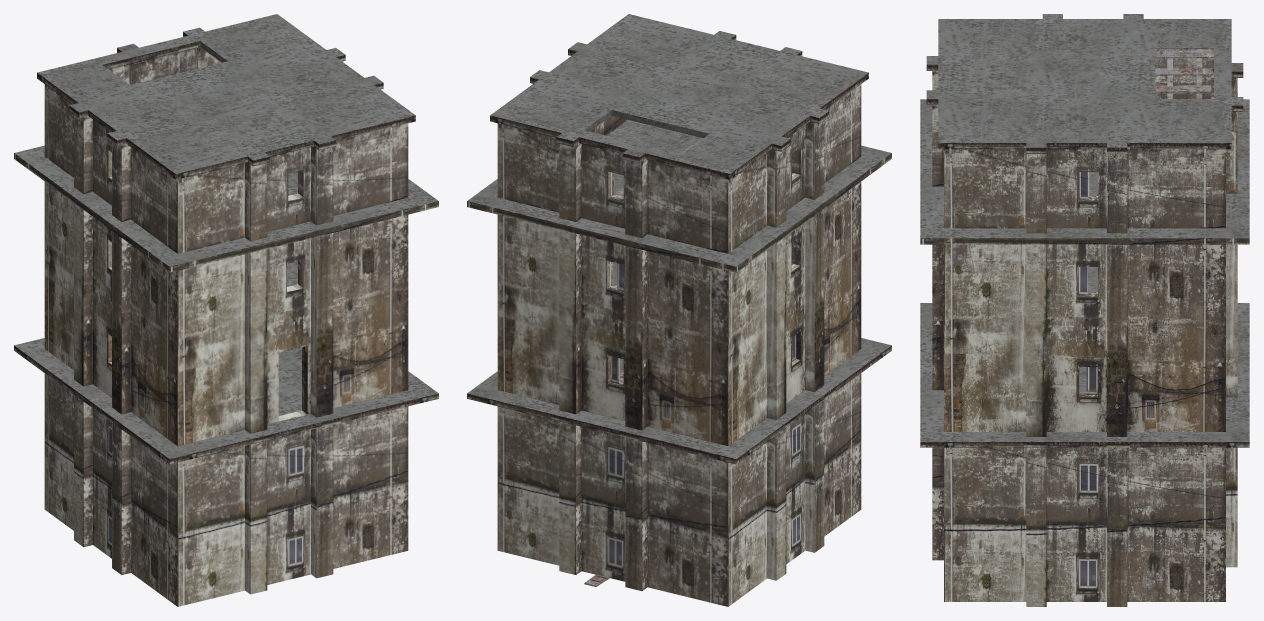
File: BagBuilding21High.fbx
3 renders of one model, left to right at view 1: azimuth 30°, elevation 25°; view 2: azimuth 150°, elevation 25°; view 3: azimuth 270°, elevation 25°, orthographic. The views are drawn at different scales.
Parts seen in each view (by area): view 1: mainA300, floorsA300; view 2: mainA300, floorsA300; view 3: mainA300, floorsA300, stairsA300.
Boxes of the visible parts, left/top/right/bottom form: mainA300: left=14, top=32, right=438, bottom=606; floorsA300: left=14, top=14, right=438, bottom=458; mainA300: left=467, top=35, right=891, bottom=606; floorsA300: left=467, top=14, right=891, bottom=458; mainA300: left=920, top=49, right=1249, bottom=606; floorsA300: left=920, top=14, right=1249, bottom=441; stairsA300: left=1155, top=48, right=1213, bottom=98.
Size of the model in its own units: 19.63 by 31.94 by 19.62.
